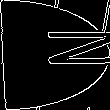N_W: (5, 35, 105, 75)
